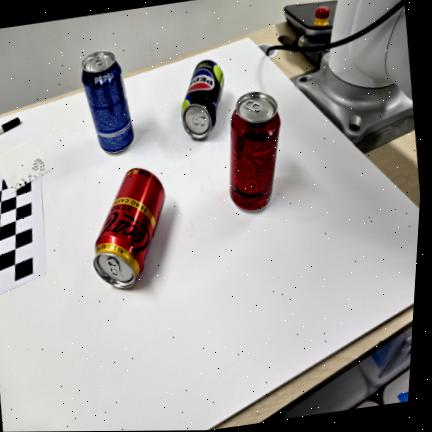can_coke_decaf: (93, 167, 165, 287)
can_coke_zero: (229, 91, 280, 210)
can_pepsi: (81, 51, 133, 152)
can_pepsi_zero: (181, 59, 224, 138)
